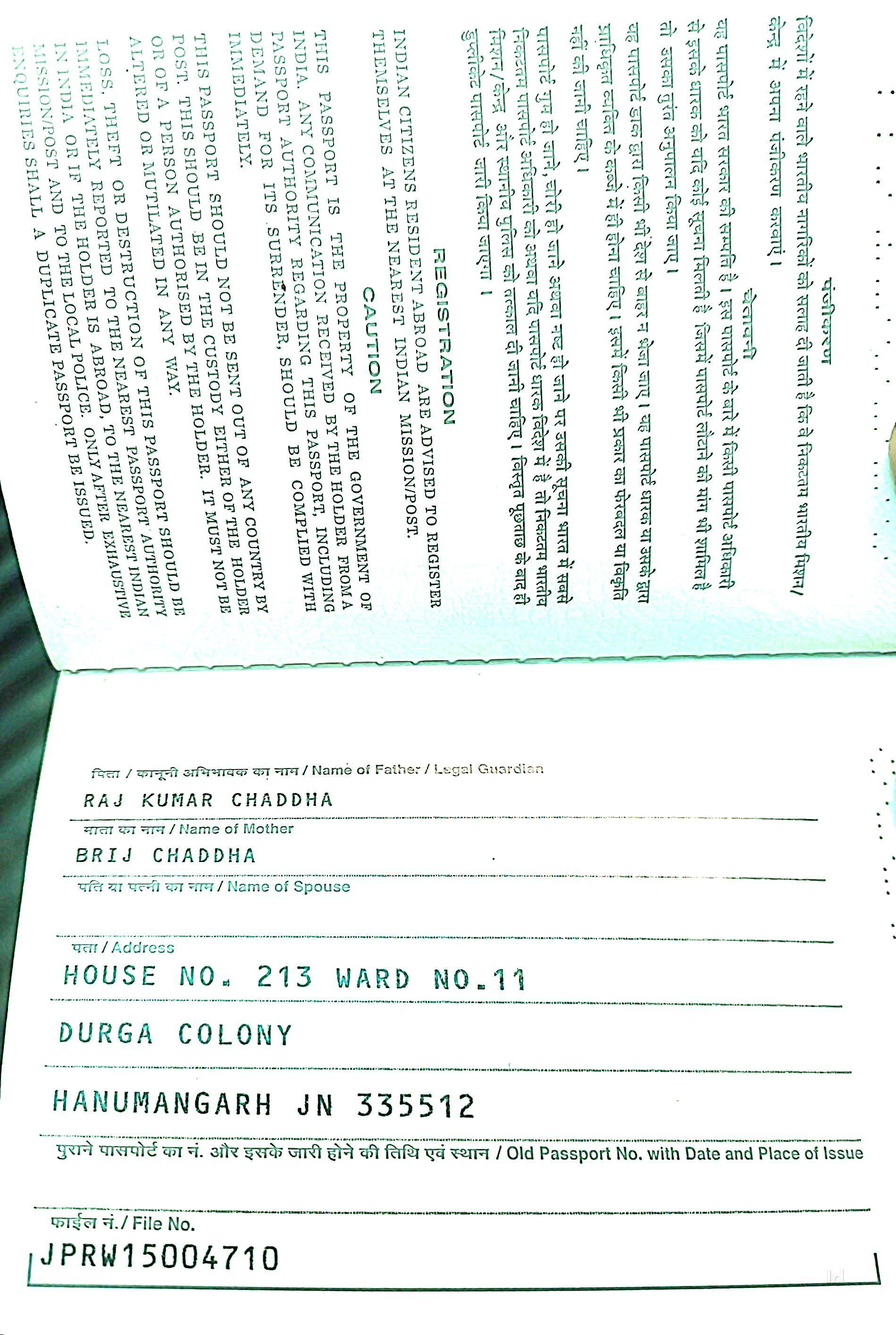File_no: (33, 1232, 298, 1289)
address: (48, 954, 548, 1138)
father_name: (66, 784, 358, 820)
mother_name: (59, 833, 277, 870)
